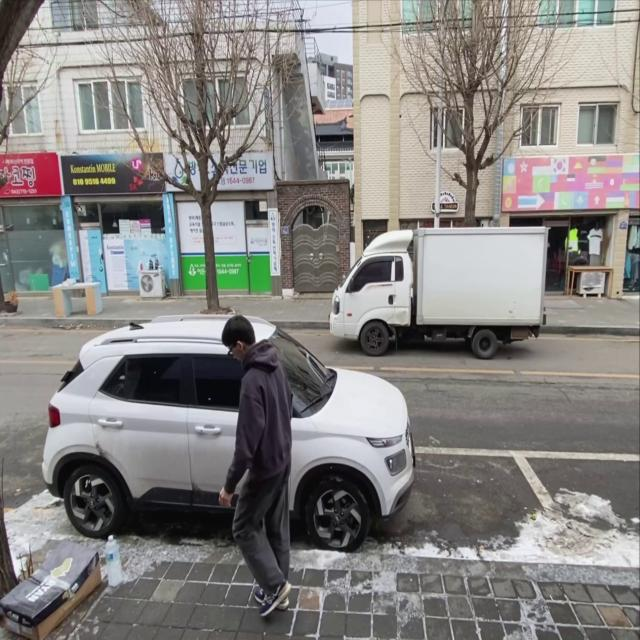bare_hand: (219, 488, 236, 512)
